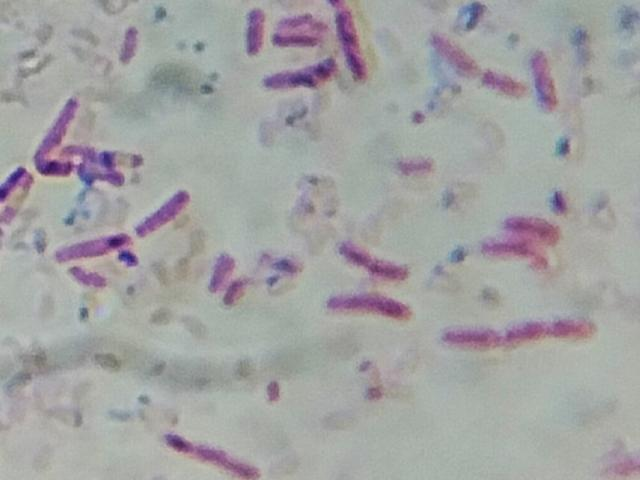E. coli: (436, 322, 609, 354), (168, 427, 262, 480), (328, 0, 379, 86), (319, 286, 417, 323), (336, 239, 423, 280), (522, 42, 564, 113), (425, 25, 478, 78), (133, 192, 195, 237), (503, 216, 572, 249), (38, 160, 126, 185), (59, 230, 131, 258), (271, 65, 346, 91), (44, 95, 83, 142), (65, 144, 146, 166), (482, 59, 525, 98), (488, 236, 545, 264), (116, 22, 144, 66), (242, 7, 267, 56), (275, 26, 323, 51), (2, 162, 29, 206), (208, 256, 235, 293), (225, 273, 243, 304)
